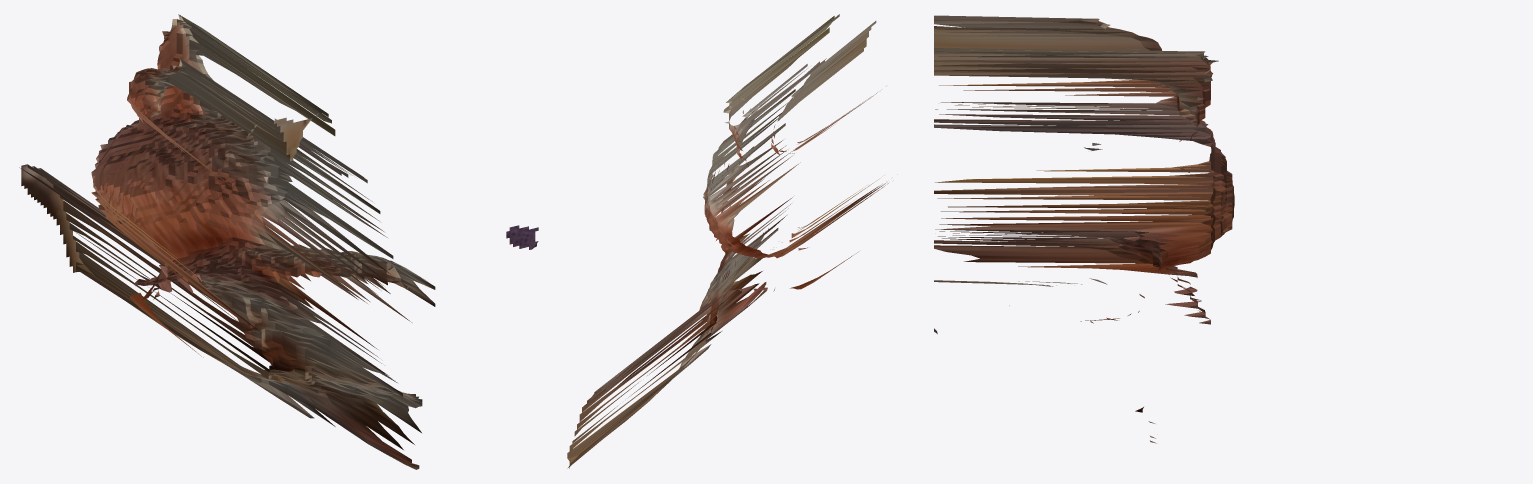
Rendered from frame_00332.glb.
The picture shows the model from 3 angles, left to right: view 1: azimuth 30°, elevation 25°; view 2: azimuth 150°, elevation 25°; view 3: azimuth 270°, elevation 25°; orthographic projection. The views are drawn at different scales.
Parts seen in each view (by area): view 1: geometry_0; view 2: geometry_0; view 3: geometry_0.
Part boxes in pixels (bbox=[...]): geometry_0: bbox=[19, 14, 538, 469]; geometry_0: bbox=[567, 14, 888, 468]; geometry_0: bbox=[934, 15, 1234, 443].
Size of the model in its own units: 0.0931 by 0.1164 by 0.16.
Materials: 1 (1 with a texture image).
